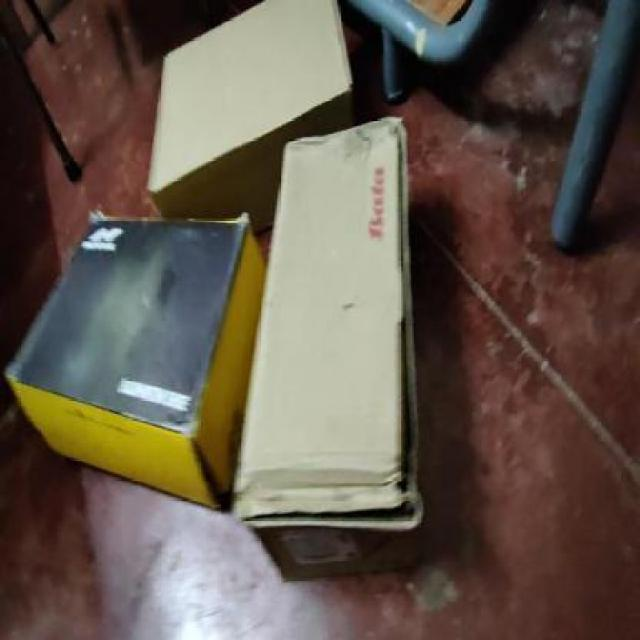box: (236, 120, 437, 582), (9, 208, 267, 514), (148, 0, 364, 234)
